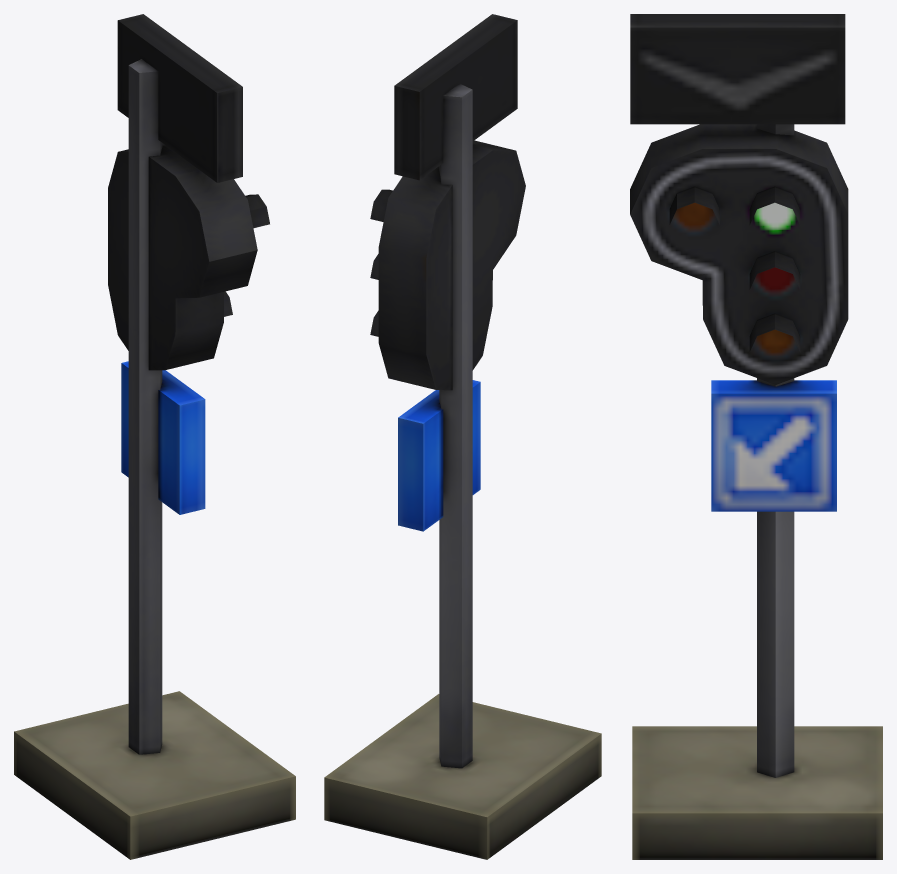
Rendered from TrackLights.FBX.
3 renders of one model, left to right at view 1: azimuth 30°, elevation 25°; view 2: azimuth 150°, elevation 25°; view 3: azimuth 270°, elevation 25°, orthographic. The views are drawn at different scales.
Parts seen in each view (by area): view 1: SeinBord; view 2: SeinBord; view 3: SeinBord.
Part boxes in pixels (x1,y1,x2,y2): SeinBord: (14,14,295,859); SeinBord: (324,14,601,859); SeinBord: (630,14,882,859).
Bounding box in the file's own units: 47.78 × 206 × 58.65.
Materials: 1 (1 with a texture image).
